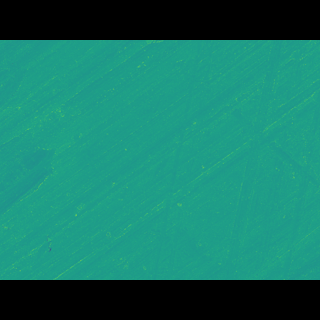Loch: (208, 69, 289, 252), (226, 99, 320, 251), (143, 69, 204, 250)
